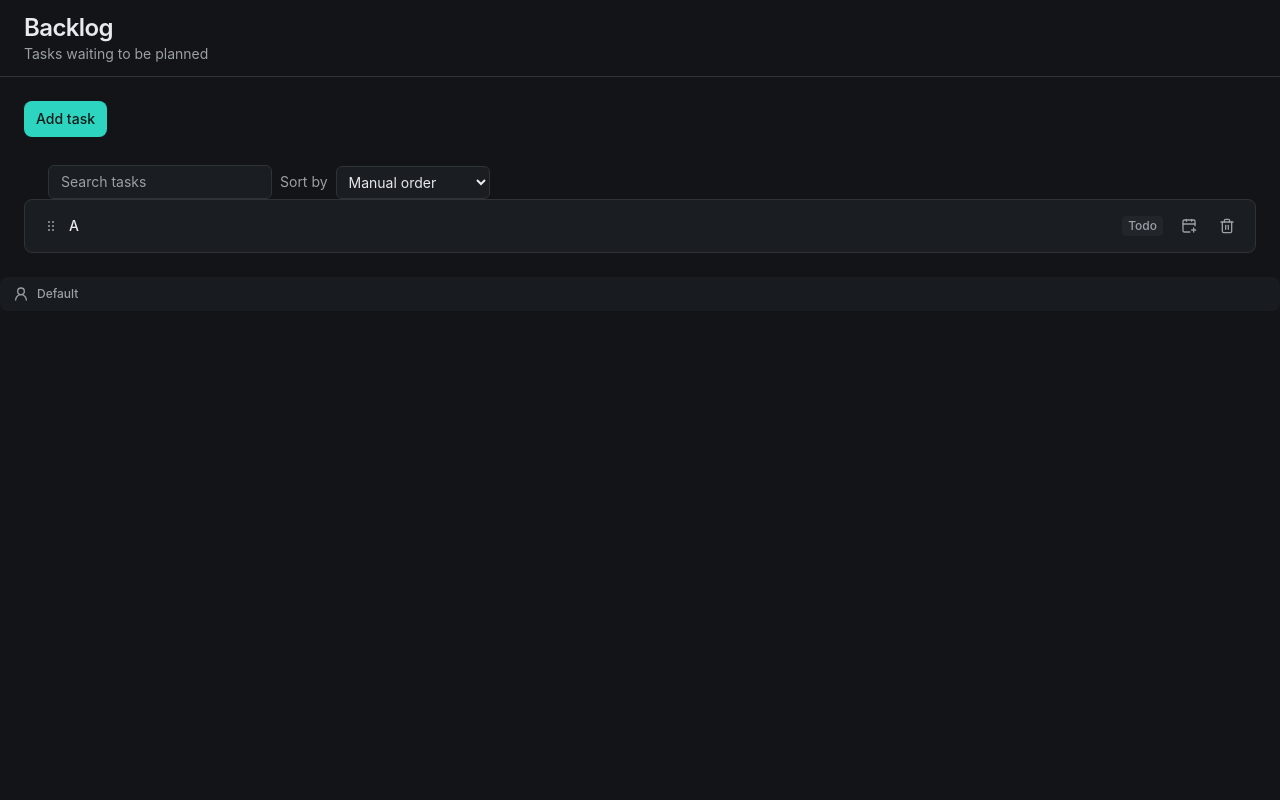
BacklogPage › an editor opened from the new list survives the delayed profile load
The width and height of the screenshot is (1280, 800).
Check: the button "A" is shown, box [69,216,79,236]
What coordinates should you click on to do the following:
click the button "Default"
I would click on:
 (58, 294)
Its box is [0,277,1279,311].
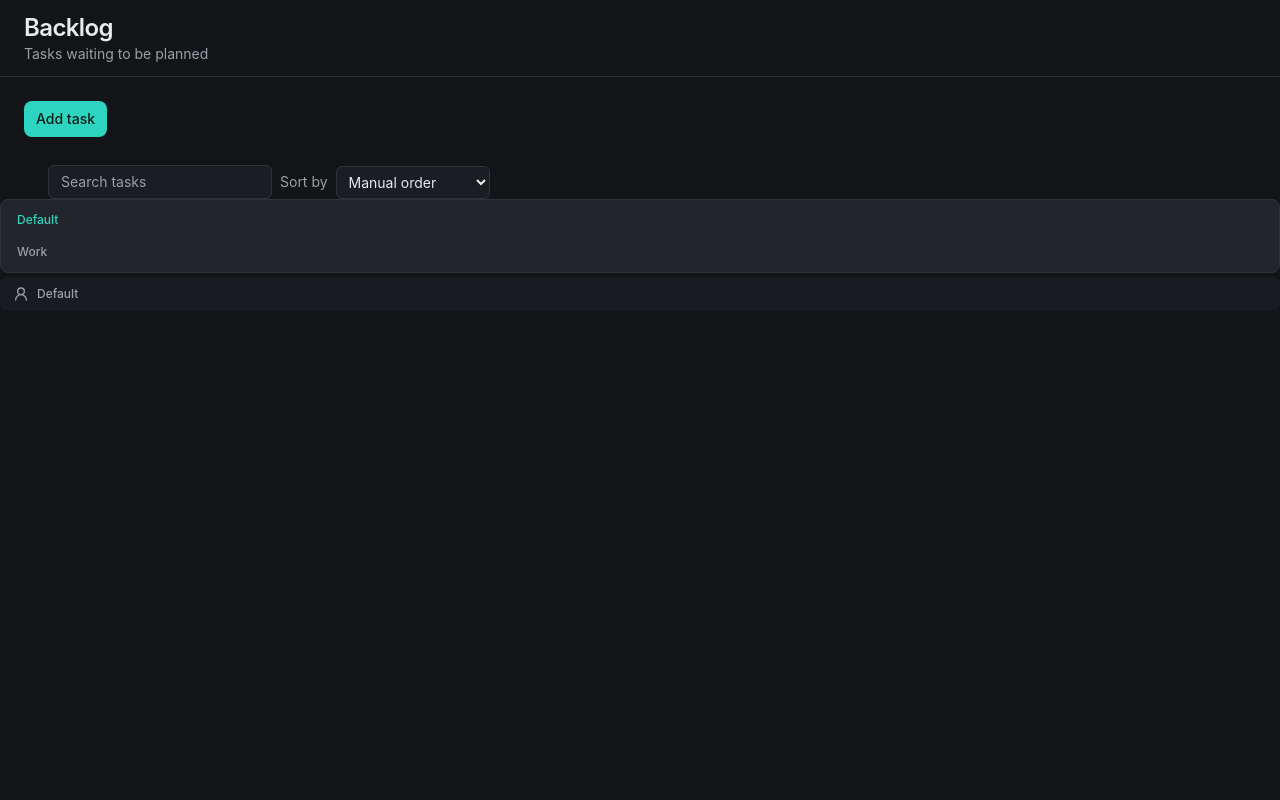
What coordinates should you click on to do the following:
click the menu item "Work"
I would click on:
 (32, 252)
Its box is [5,236,1275,268].
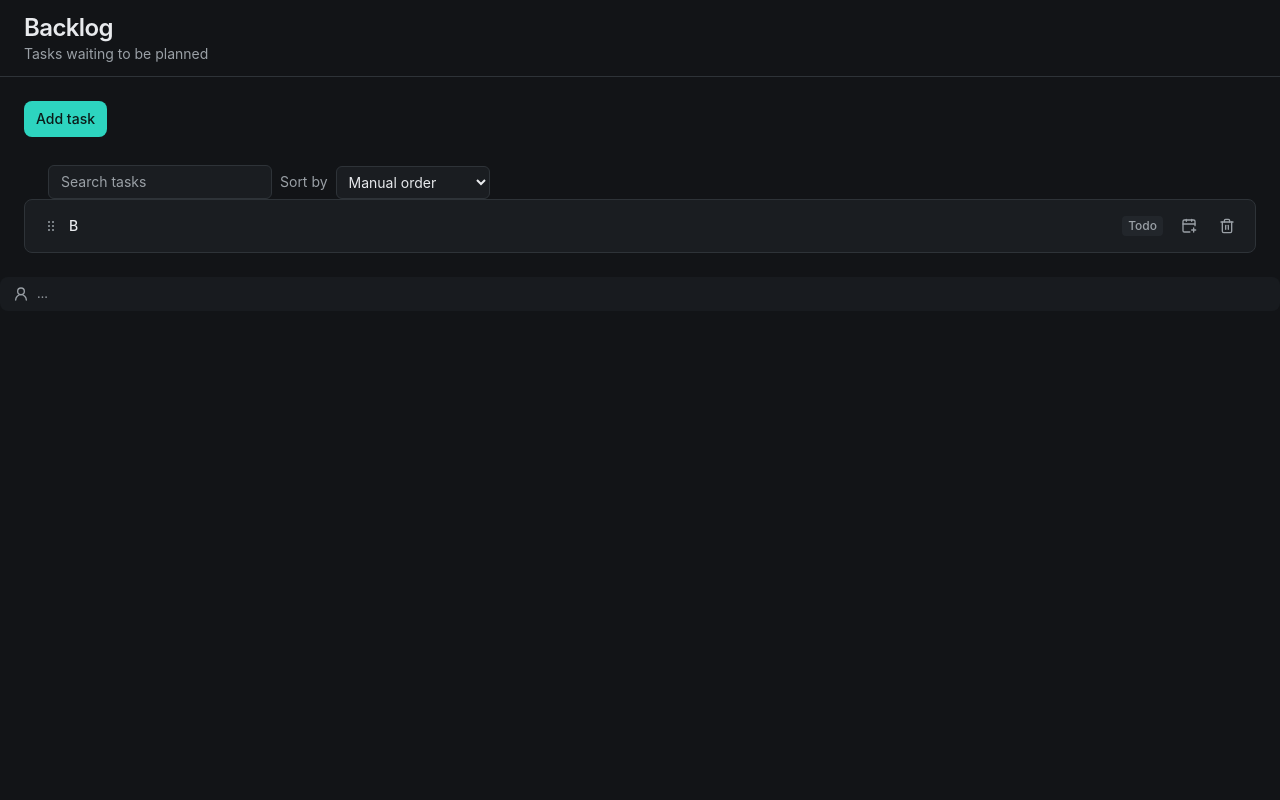
The new list renders while currentProfile is still pending.
What coordinates should you click on to do the following:
click the button "B"
I would click on:
 (74, 226)
Its box is [69,216,78,236].
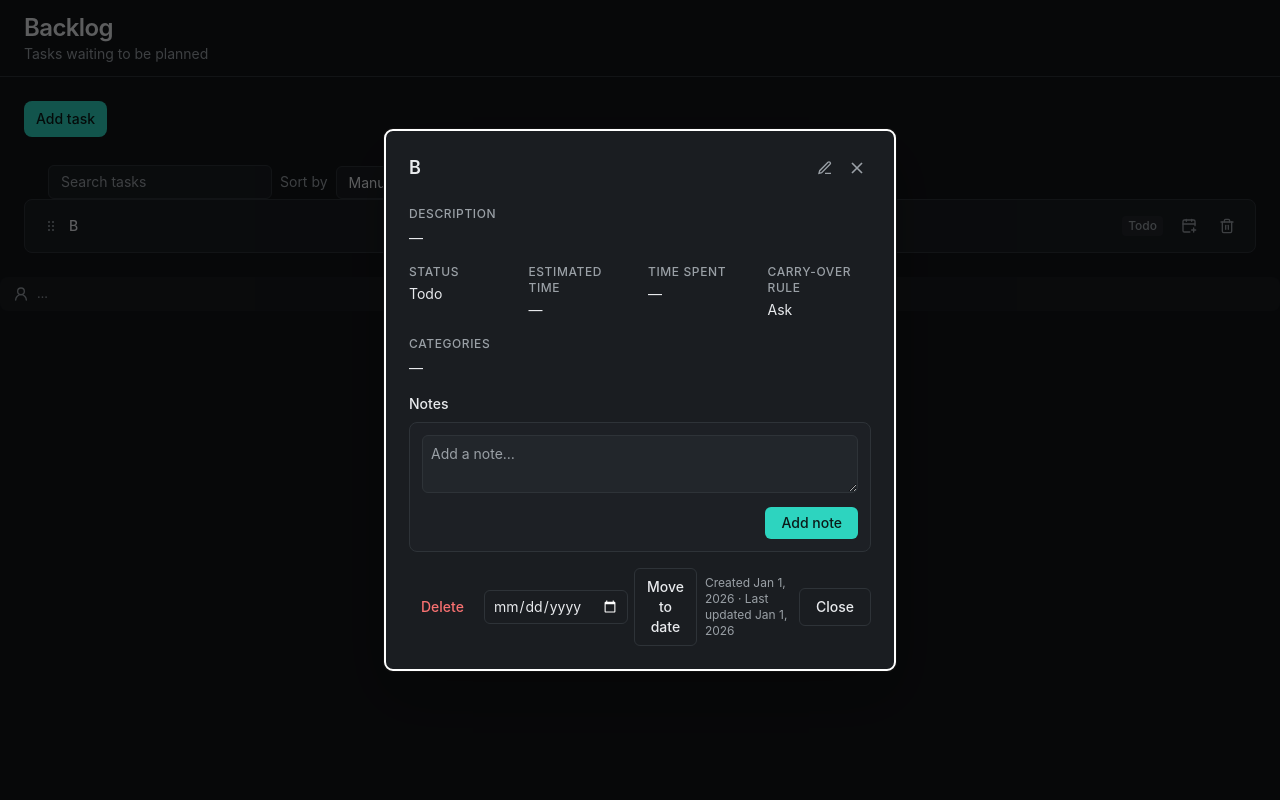
What coordinates should you click on to do the following:
click the button named "Edit"
I would click on:
 (825, 168)
Its box is [811,154,839,182].
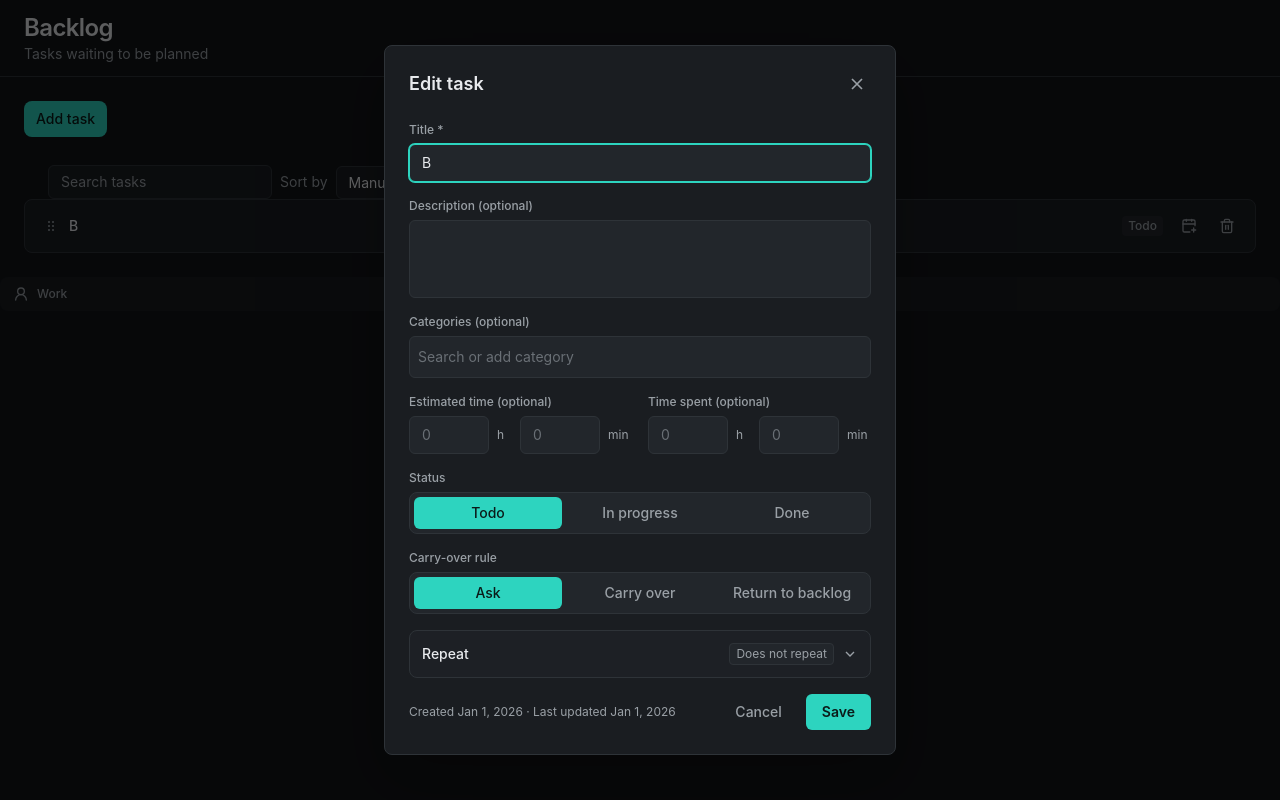
Check: the heading "Edit task" is shown, box [409,70,484,98]
